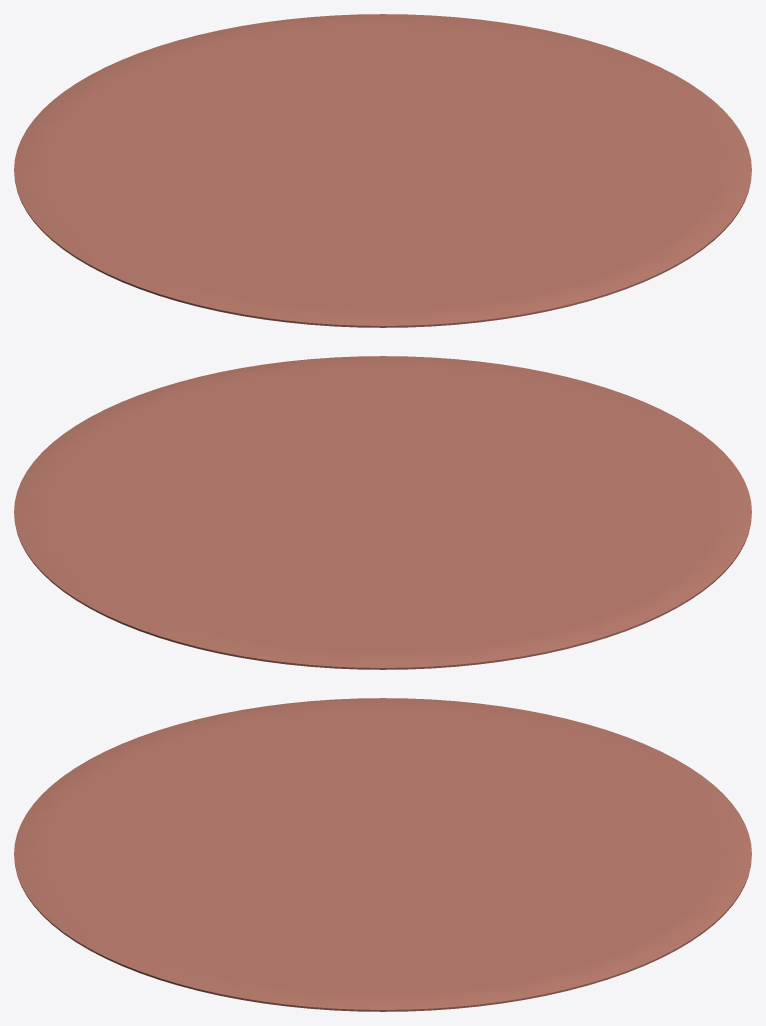
The model's file is lp_rug_oval.glb.
3 renders of one model, top to bottom at view 1: azimuth 30°, elevation 25°; view 2: azimuth 150°, elevation 25°; view 3: azimuth 270°, elevation 25°, orthographic.
Parts seen in each view (by area): view 1: lp_rug_oval; view 2: lp_rug_oval; view 3: lp_rug_oval.
Part boxes in pixels (left/top/right/bottom): lp_rug_oval: left=14, top=14, right=751, bottom=327; lp_rug_oval: left=14, top=356, right=751, bottom=669; lp_rug_oval: left=14, top=698, right=751, bottom=1011.
Size of the model in its own units: 2 by 0.012 by 2.
